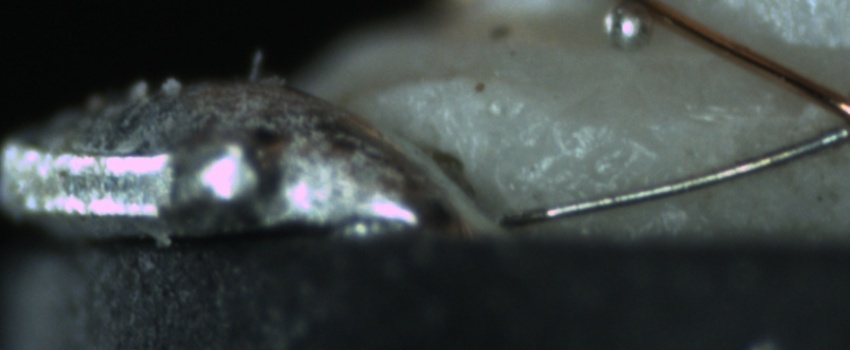CL: (805, 81, 850, 152)
DL: (667, 83, 842, 149)
TS: (498, 125, 848, 231)
